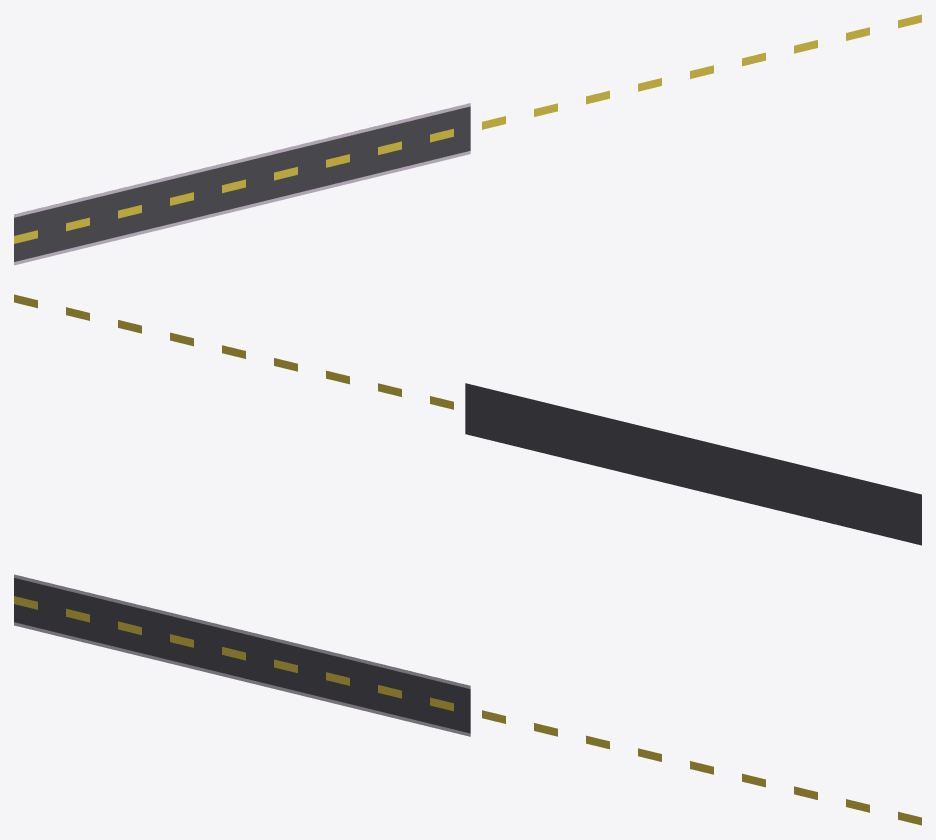
File: track.obj
The picture shows the model from 3 angles, top to bottom: view 1: azimuth 30°, elevation 25°; view 2: azimuth 150°, elevation 25°; view 3: azimuth 330°, elevation 25°; orthographic projection.
Bounding box in the file's own units: 11.35 × 0.6096 × 0.002.
